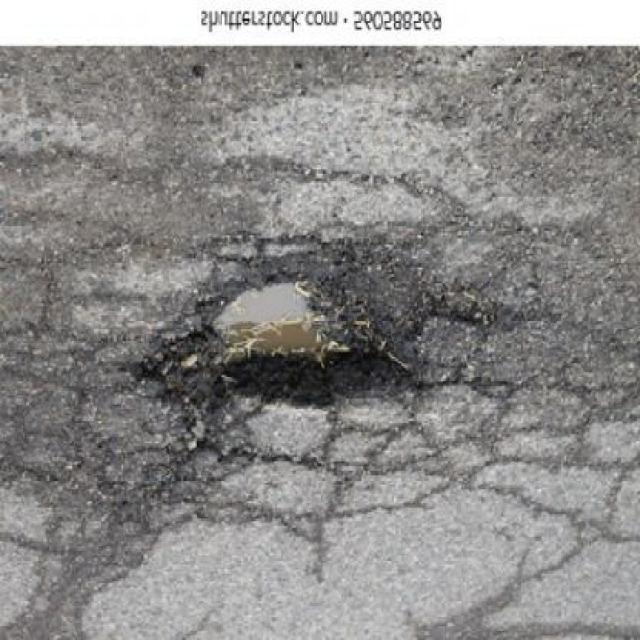pothole: (134, 208, 472, 470)
